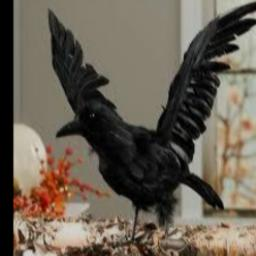Crow: (44, 0, 256, 241)
